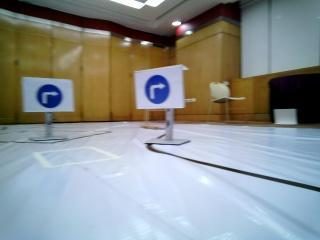right: (21, 74, 73, 112), (135, 71, 183, 106)
